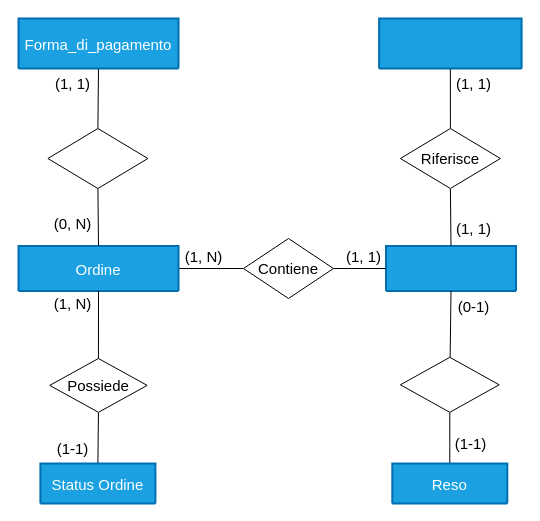
This 540x521 diagram has some shape labels left out. Here are the shapes that lost their labels. From the top down, the centre of each, then its label:
point (450, 43): Fattura
point (97, 158): Pagato
point (450, 268): Dettaglio ordine
point (449, 384): Rifersce
